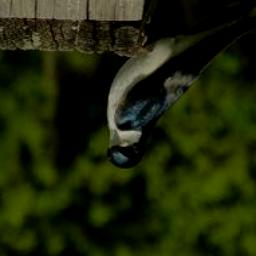Swallow: (105, 0, 256, 171)
